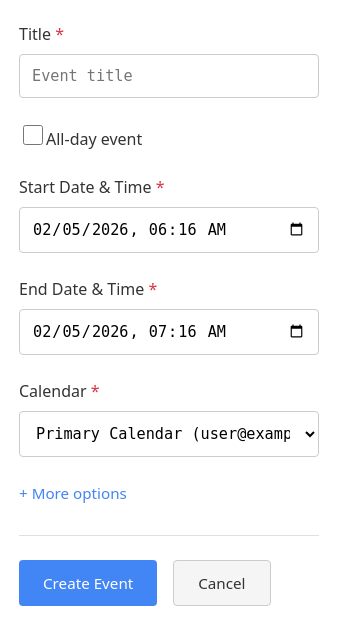
Test case: EventForm Component › Form Validation - Required Fields › should show start date/time is required error
// Clear auto-filled start date and fill only title
Clear the field labelled "Start Date & Time *" at (169, 230), box [19,207,319,253]
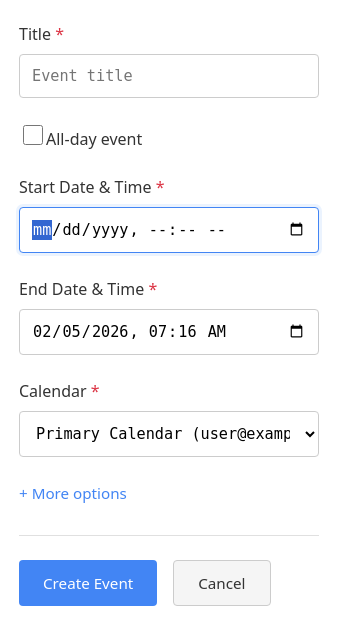
Type "Test Event" into the field labelled "Title *" at (169, 76), box [19,54,319,98]
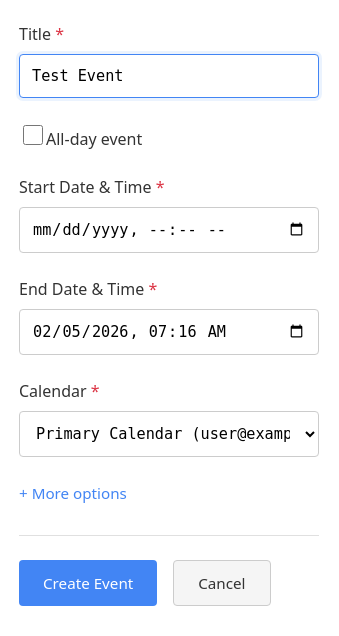
// Try to submit
Click the button "Create Event" at (88, 583), box [19,560,157,606]
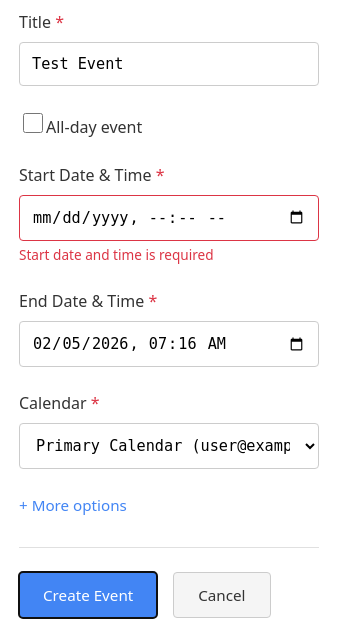
Now the text "Start date and time is required" is shown, box [19,245,214,264]
